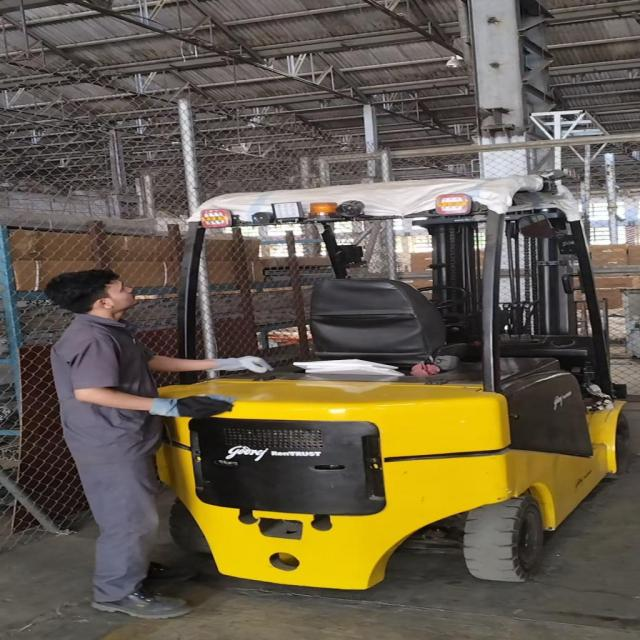Gloves-Detection: (145, 395, 235, 426), (210, 355, 287, 376)
